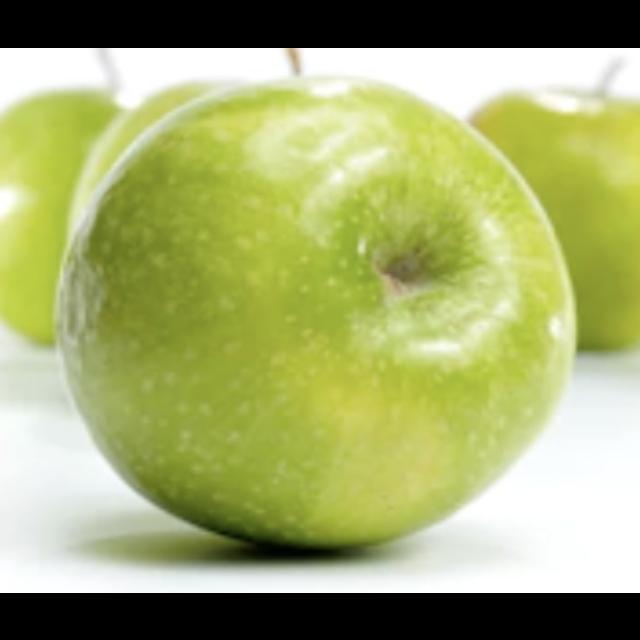Apel Segar: (43, 60, 589, 562)
